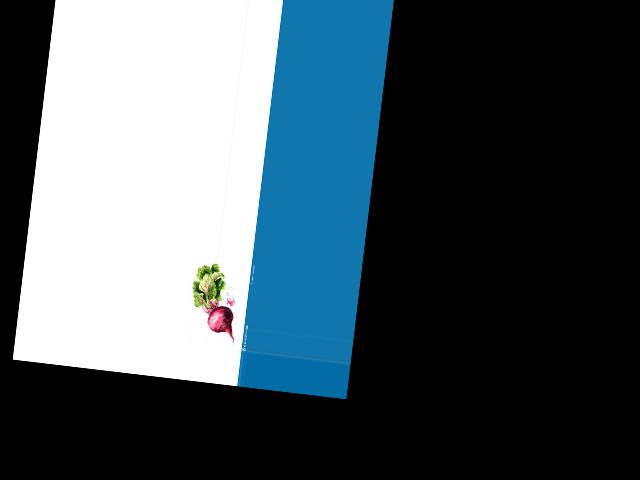beet: (186, 260, 243, 342)
